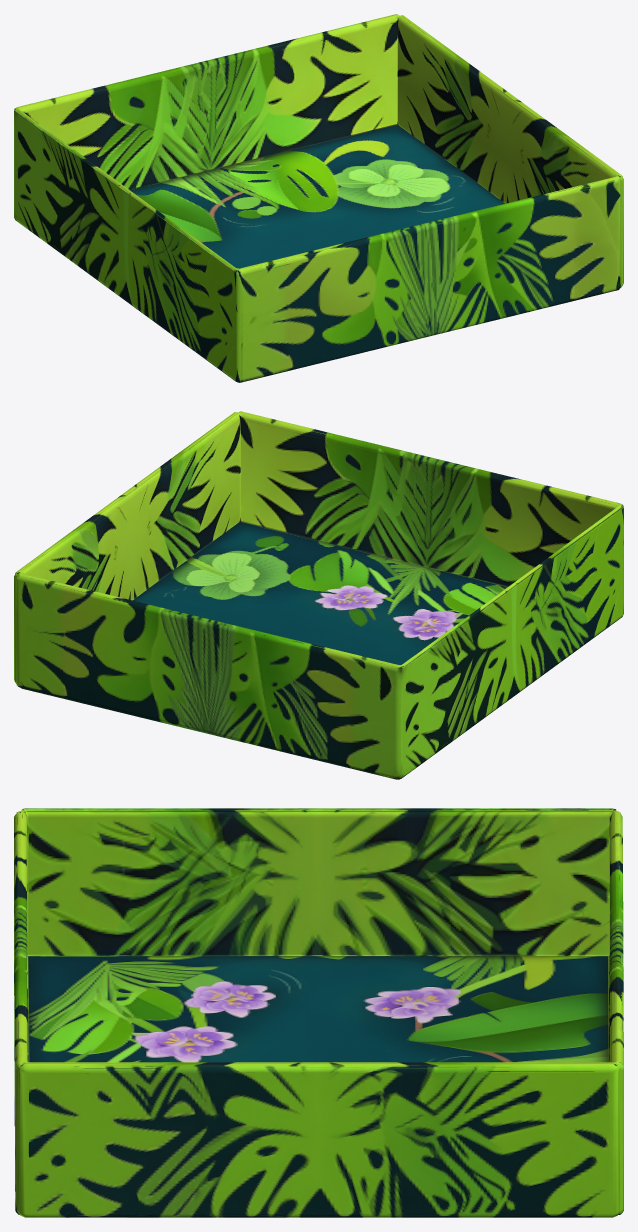
File: 3d-box-cardinal.glb
The picture shows the model from 3 angles, top to bottom: view 1: azimuth 30°, elevation 25°; view 2: azimuth 150°, elevation 25°; view 3: azimuth 270°, elevation 25°; orthographic projection. The views are drawn at different scales.
Parts seen in each view (by area): view 1: Mesh_0.003; view 2: Mesh_0.003; view 3: Mesh_0.003.
Boxes of the visible parts, left/top/right/bottom form: Mesh_0.003: left=14, top=14, right=623, bottom=382; Mesh_0.003: left=14, top=411, right=623, bottom=779; Mesh_0.003: left=14, top=808, right=623, bottom=1217.
Size of the model in its own units: 1.9 by 0.5284 by 1.9.
Materials: 1 (1 with a texture image).
